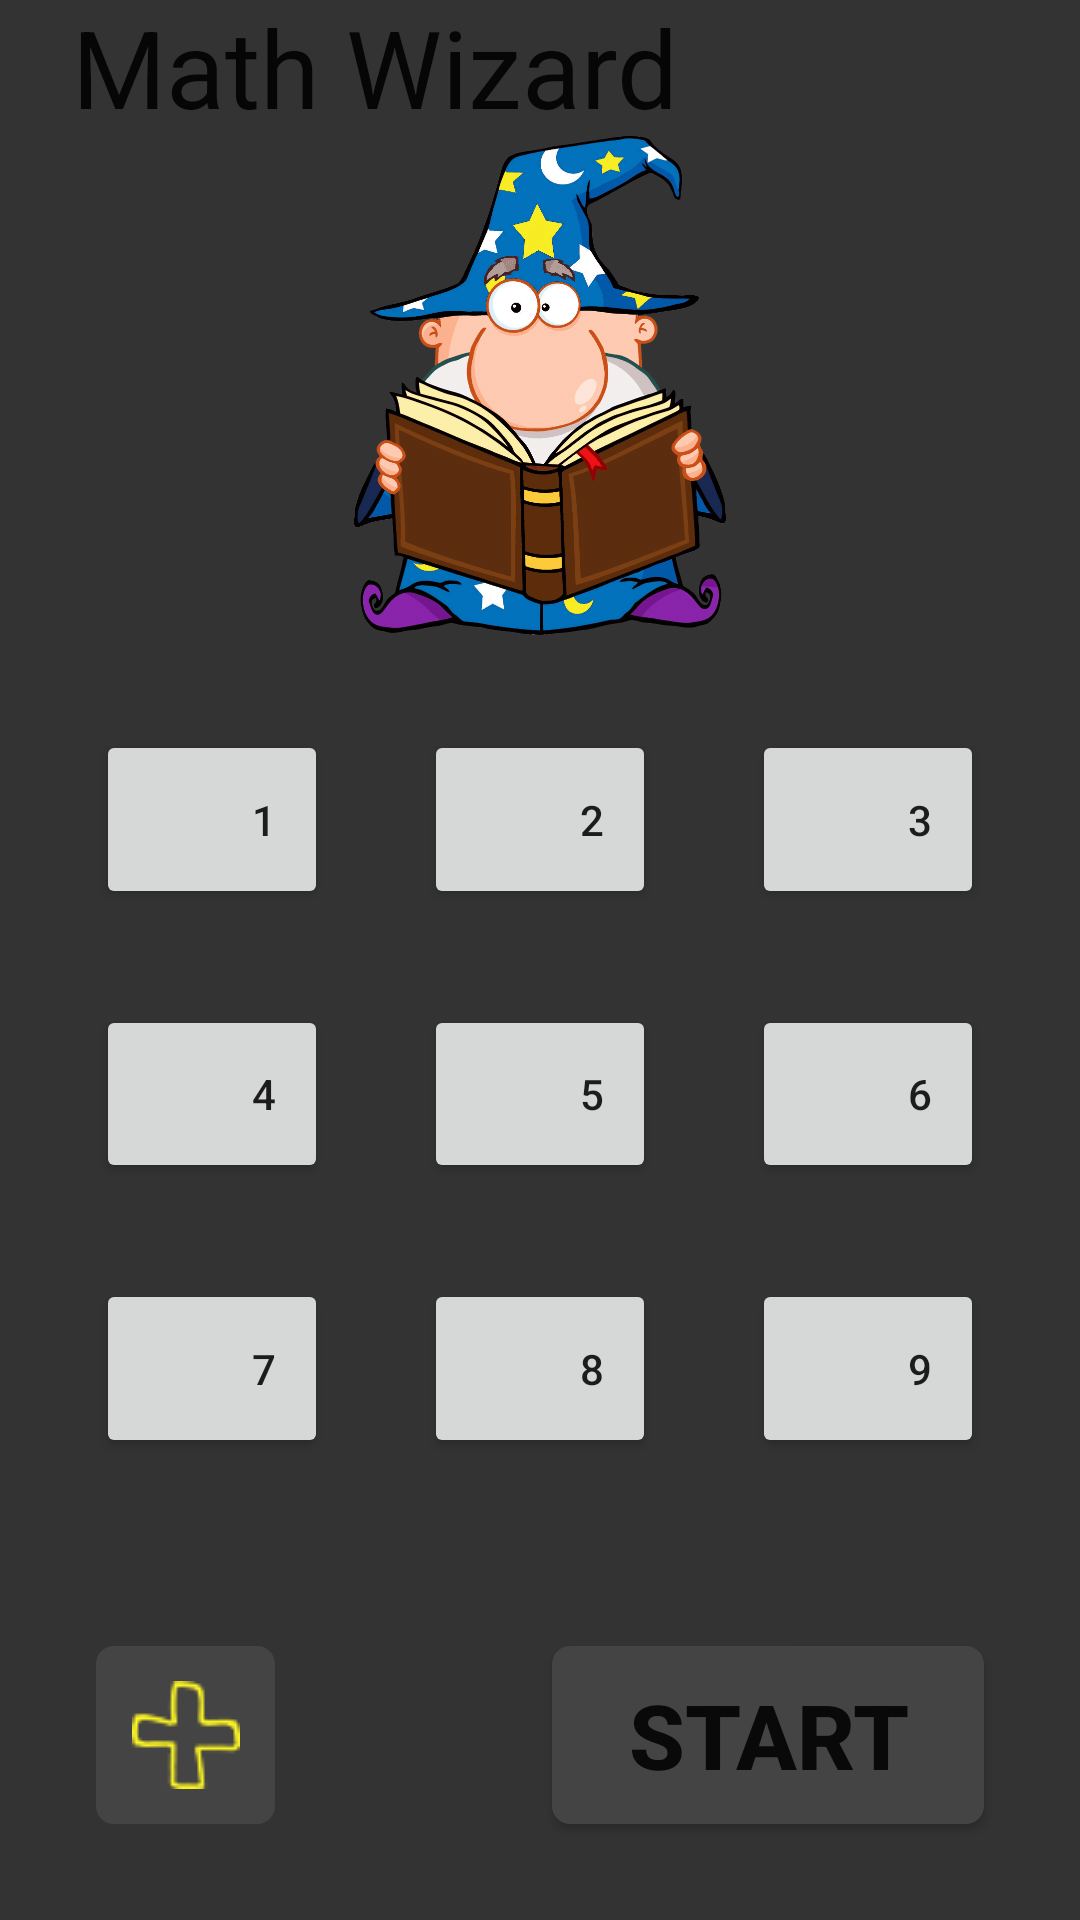

Point at icon controls on the screen. Image size 1080w x 1920h, points as [x,y].
sign plus: [185,1735]
